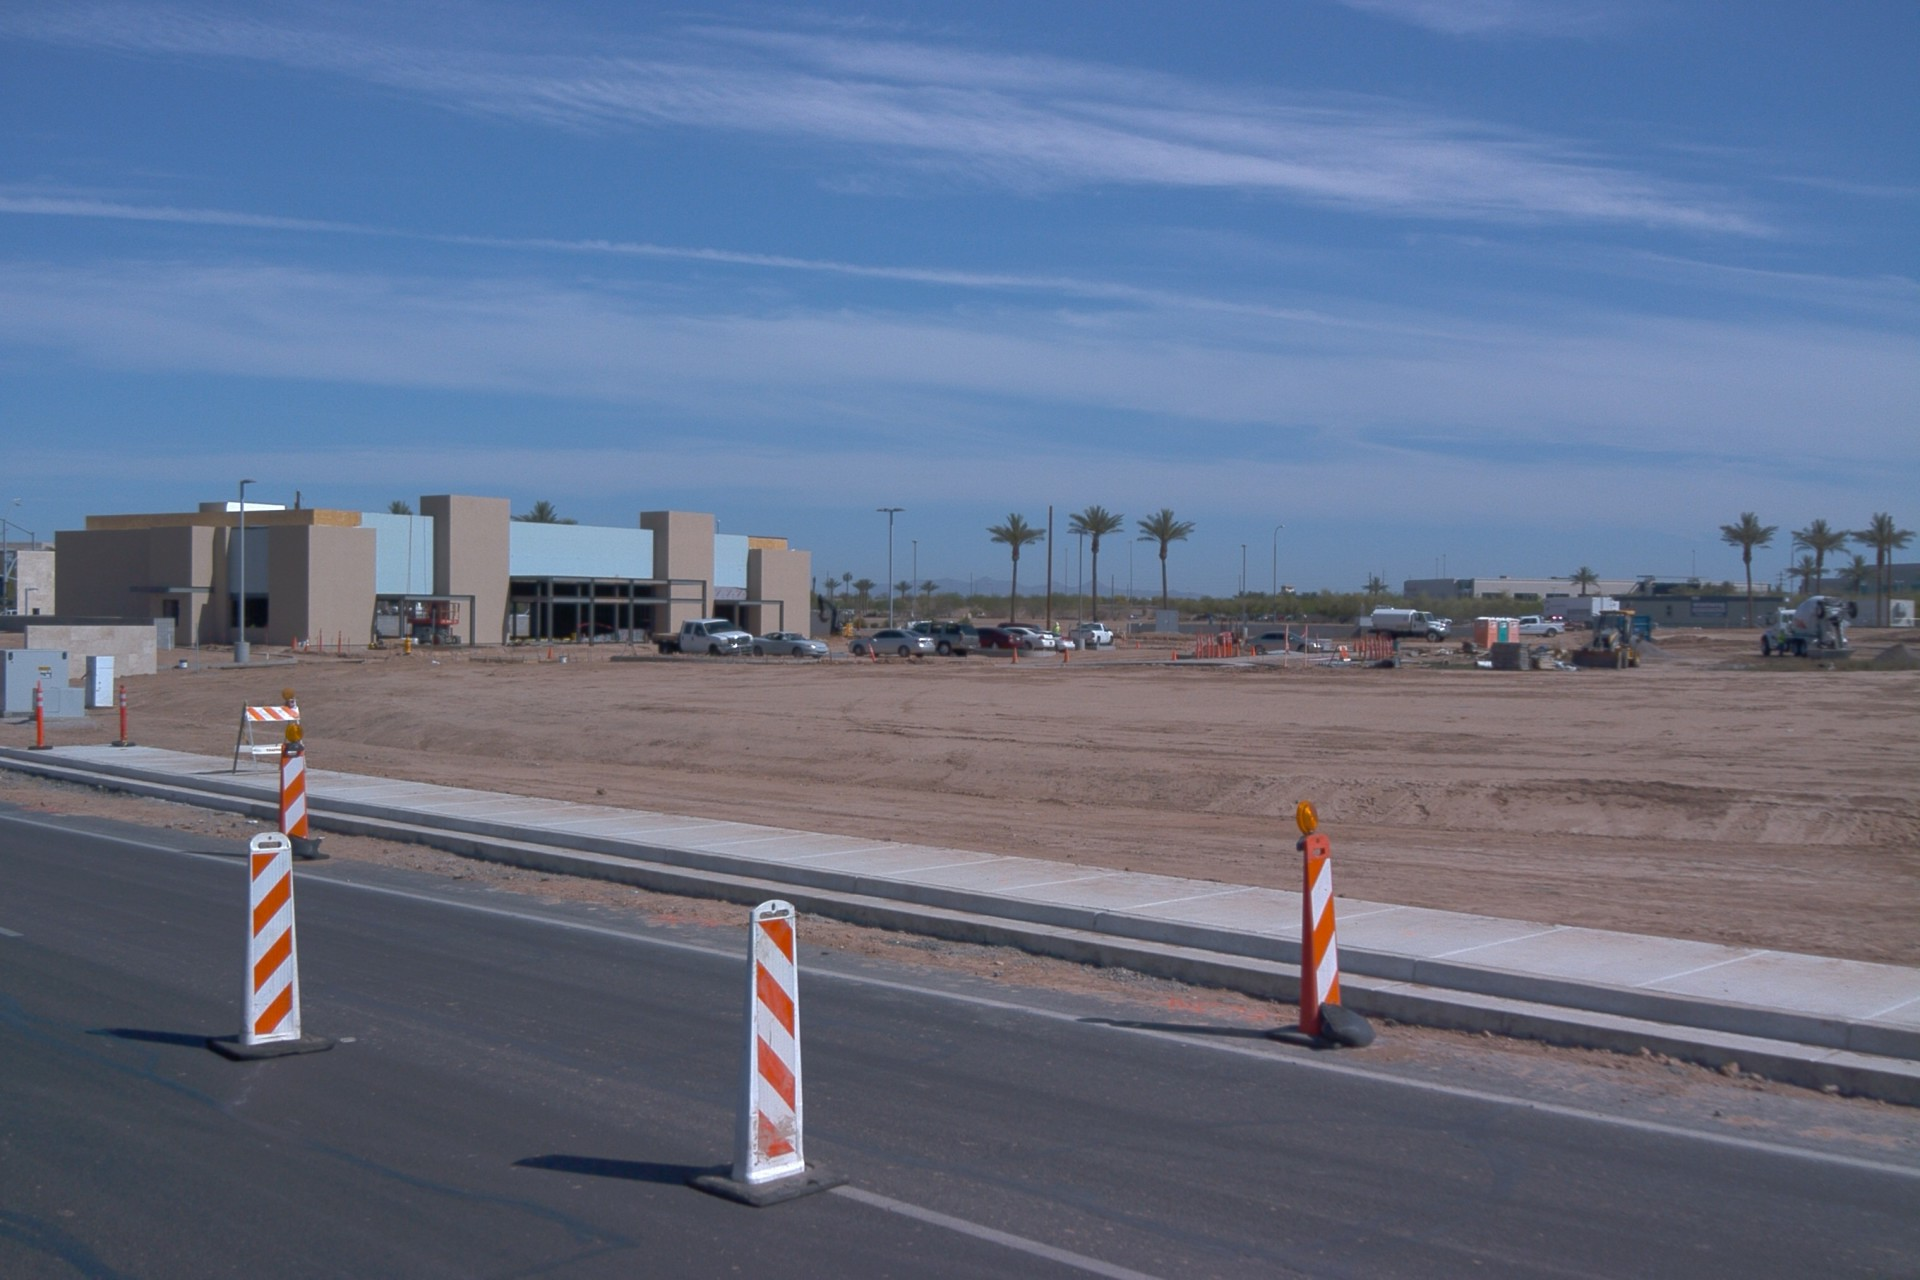TYPE_PEDESTRIAN: (1774, 626, 1788, 656), (1053, 618, 1065, 639), (1077, 618, 1083, 629)
TYPE_VEHICLE: (1755, 595, 1860, 660), (1566, 609, 1639, 672), (649, 619, 755, 662), (906, 618, 985, 663), (1372, 603, 1451, 645), (848, 625, 937, 658), (752, 631, 830, 655), (974, 624, 1029, 657), (1243, 629, 1320, 652), (1004, 627, 1057, 653), (1068, 622, 1117, 650), (1516, 615, 1566, 639), (377, 600, 428, 618), (1043, 630, 1079, 653), (995, 621, 1044, 634), (903, 621, 934, 633), (0, 610, 18, 617), (1437, 618, 1454, 625)
